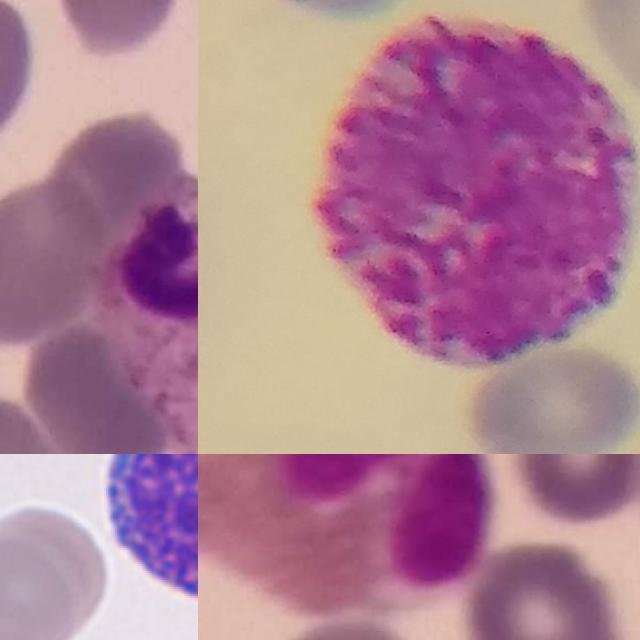Basophil: (313, 14, 640, 371)
Eosinophil: (198, 454, 491, 618)
Lymphocyte: (88, 454, 198, 615)
Neutrophil: (99, 166, 198, 454)
RBC: (0, 496, 114, 636), (0, 530, 79, 640)
